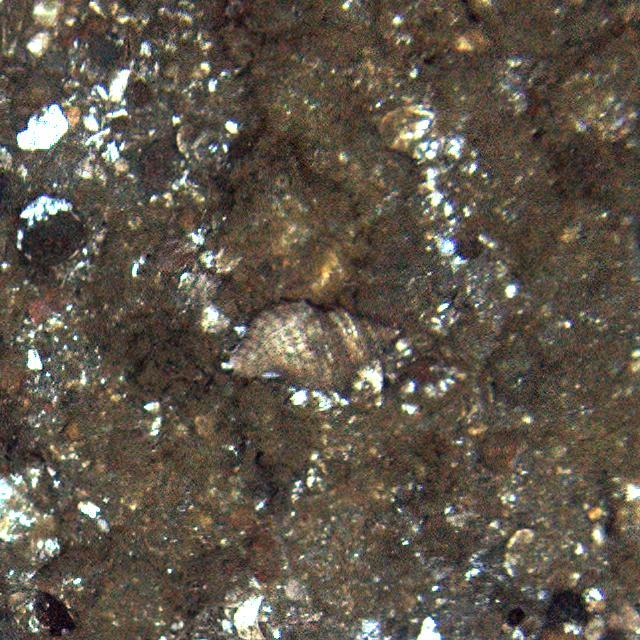whelk: (236, 305, 404, 391)
